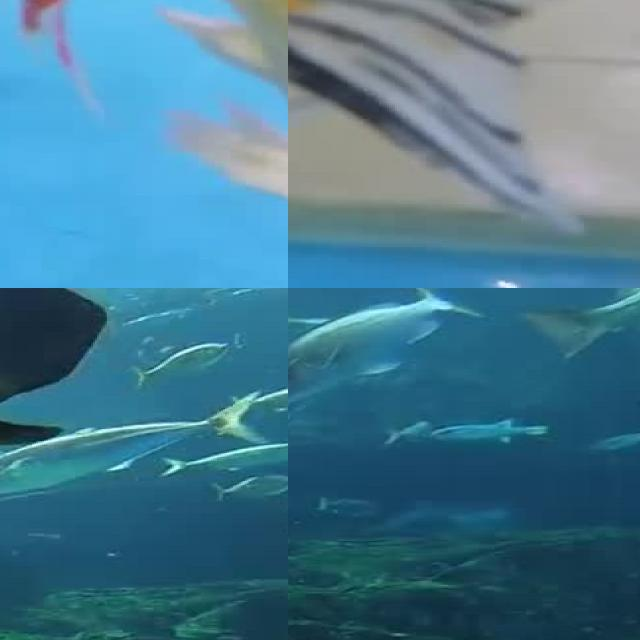fish: (0, 0, 288, 288), (0, 401, 262, 499), (288, 288, 459, 398)
